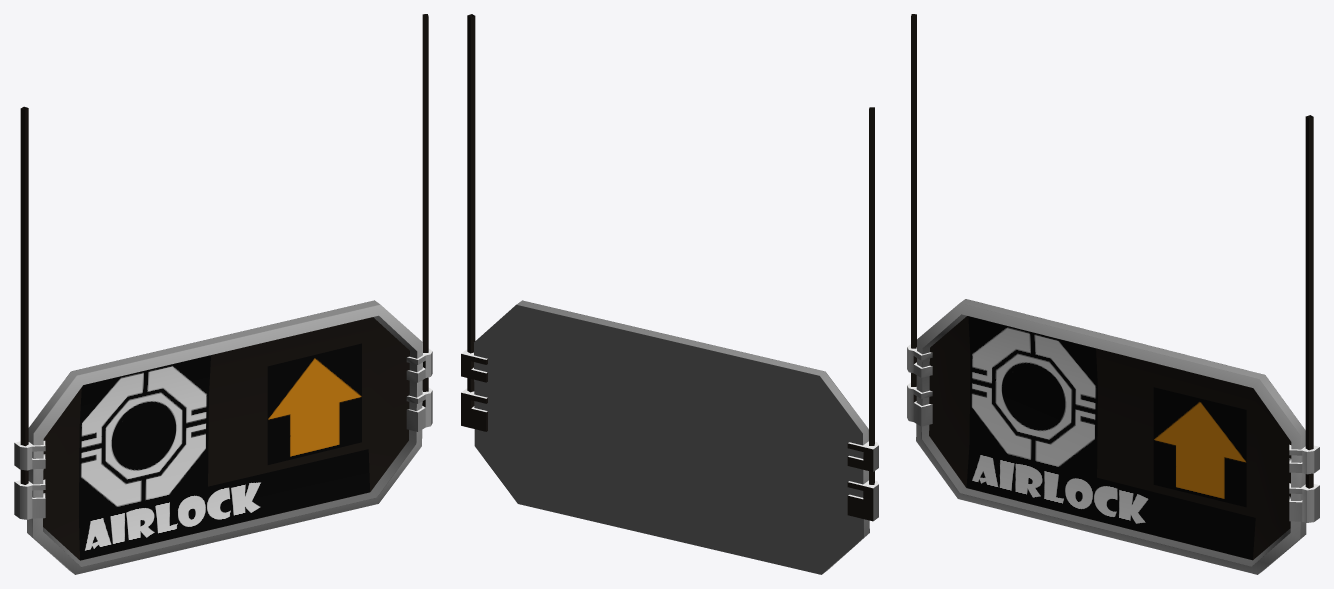
File: Dir_Sign.fbx
3 renders of one model, left to right at view 1: azimuth 30°, elevation 25°; view 2: azimuth 150°, elevation 25°; view 3: azimuth 330°, elevation 25°, orthographic.
Parts seen in each view (by area): view 1: Board, Arrow, Ropes; view 2: Board, Ropes; view 3: Board, Arrow, Ropes.
Part boxes in pixels (box(x1,y1,x2,y2)): Board: box(14, 300, 432, 574); Arrow: box(267, 343, 361, 464); Ropes: box(20, 14, 428, 484); Board: box(461, 300, 878, 574); Ropes: box(467, 14, 874, 484); Board: box(907, 299, 1319, 574); Arrow: box(1153, 387, 1246, 507); Ropes: box(911, 14, 1313, 488).
Bounding box in the file's own units: 230 × 255 × 10.8.
